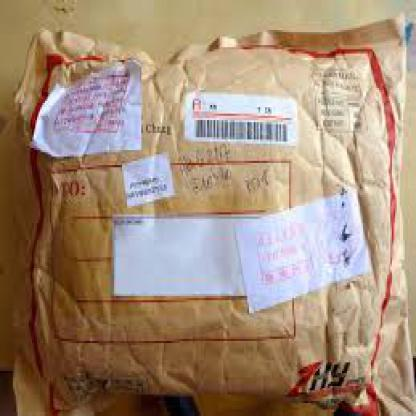paquete: (13, 21, 413, 414)
